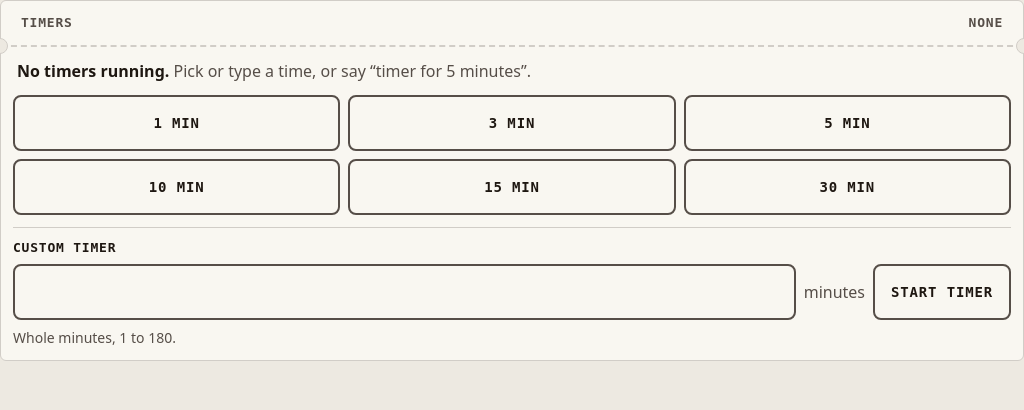
Test: TimersPanel custom duration › starts a whole-minute timer and confirms it in a live status
Type "7" into the field labelled "Custom timer" at (404, 292), box x1=13 y1=264 x2=796 y2=320
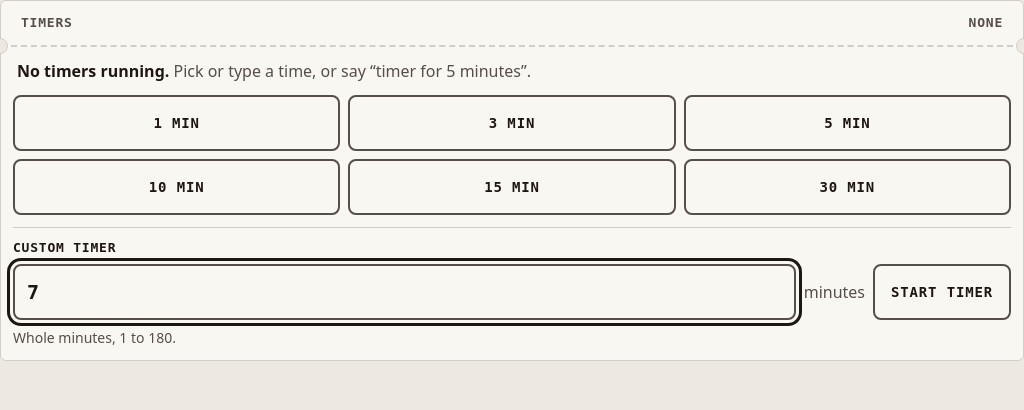
Click the button "Start timer" at (942, 292), box x1=873 y1=264 x2=1011 y2=320
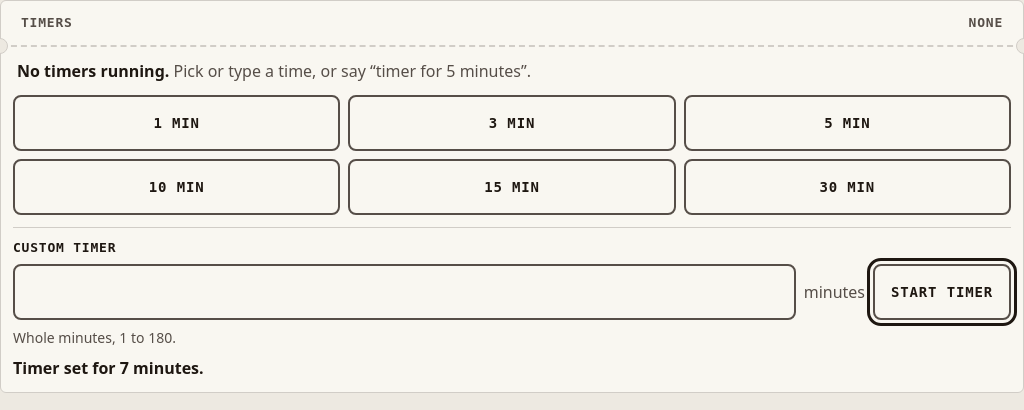
Result: the field labelled "Custom timer" is empty at x1=13 y1=264 x2=796 y2=320
Result: the element showing "Timer set for 7 minutes." is shown at x1=13 y1=357 x2=204 y2=379
